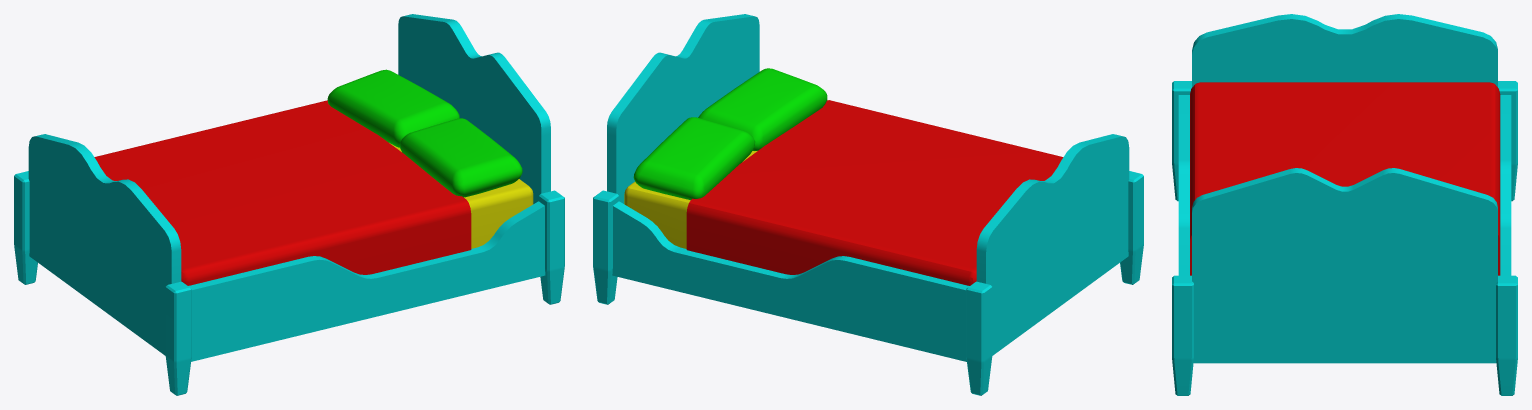
The model's file is bed_game2.fbx.
3 views of the same model, side by side, from view 1: azimuth 30°, elevation 25°; view 2: azimuth 150°, elevation 25°; view 3: azimuth 270°, elevation 25° (orthographic). The views are drawn at different scales.
Parts seen in each view (by area): view 1: pCube1; view 2: pCube1; view 3: pCube1.
Boxes of the visible parts, x1=… form: pCube1: x1=14, y1=14, x2=564, y2=395; pCube1: x1=593, y1=14, x2=1143, y2=395; pCube1: x1=1172, y1=14, x2=1517, y2=395.
Bounding box in the file's own units: 14.87 × 7.56 × 10.66.
